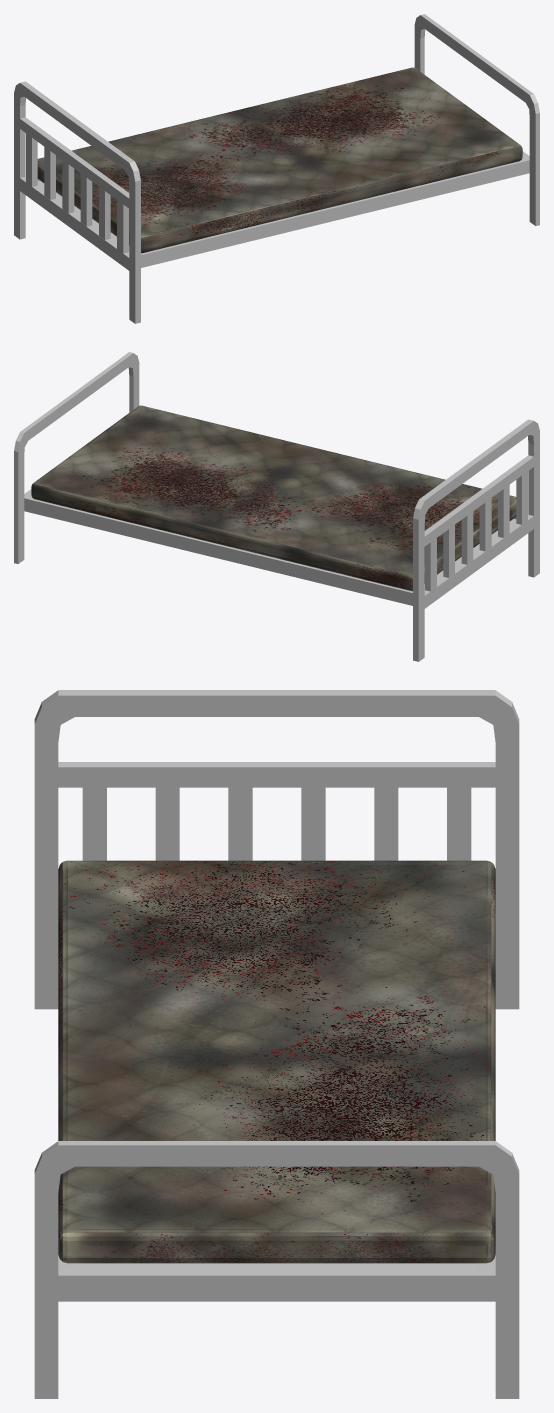
The model's file is RustyBedFinal.fbx.
The picture shows the model from 3 angles, top to bottom: view 1: azimuth 30°, elevation 25°; view 2: azimuth 150°, elevation 25°; view 3: azimuth 270°, elevation 25°; orthographic projection. The views are drawn at different scales.
Visible parts, largest first — view 1: Matress, Bed frame; view 2: Matress, Bed frame; view 3: Matress, Bed frame.
Part boxes in pixels (x1,y1,x2,y2): Matress: (37,67,522,253); Bed frame: (14,14,539,323); Matress: (31,405,516,591); Bed frame: (14,352,539,661); Matress: (58,860,495,1263); Bed frame: (34,690,519,1398).
Size of the model in its own units: 197 by 72.83 by 102.
